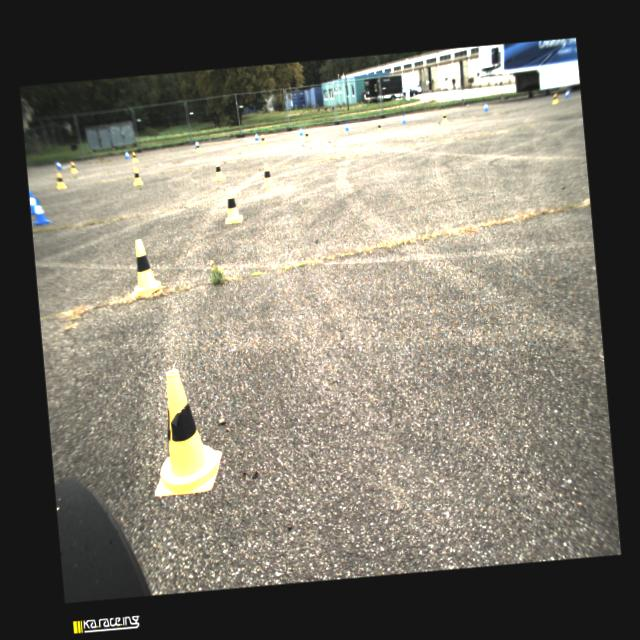blue_cone: (32, 197, 51, 225), (28, 190, 42, 214), (54, 160, 63, 172), (563, 87, 570, 98), (482, 102, 488, 111), (401, 114, 406, 124), (193, 140, 199, 148), (124, 150, 130, 158), (253, 132, 259, 140), (298, 126, 303, 135), (344, 121, 348, 131)
yellow_cone: (143, 366, 224, 496), (126, 236, 165, 296), (222, 185, 244, 222), (258, 162, 274, 188), (211, 159, 225, 181), (54, 171, 66, 188), (132, 166, 142, 185), (375, 119, 383, 133), (70, 160, 78, 173), (440, 110, 447, 122), (551, 92, 558, 104), (304, 129, 310, 141), (131, 151, 137, 162), (195, 142, 201, 152), (260, 134, 266, 144)
